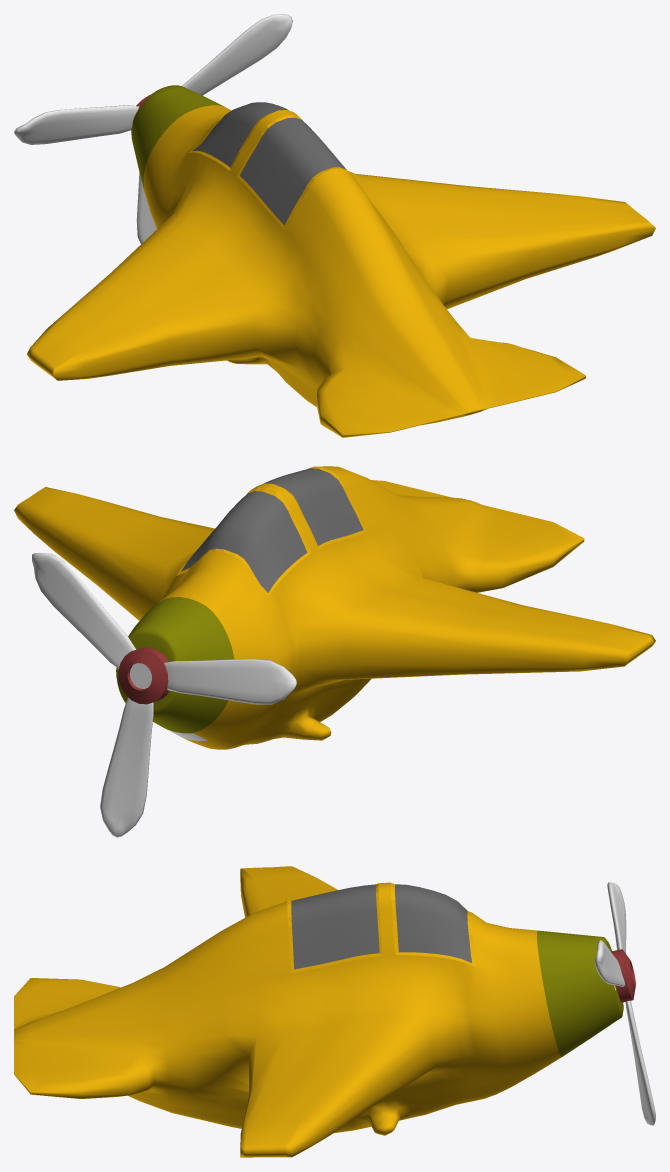
The model's file is airplanev3.fbx.
3 renders of one model, top to bottom at view 1: azimuth 30°, elevation 25°; view 2: azimuth 150°, elevation 25°; view 3: azimuth 270°, elevation 25°, orthographic. The views are drawn at different scales.
Visible parts, largest first — view 1: pCylinder1, pCube4; view 2: pCylinder1, pCube4; view 3: pCylinder1, pCube4.
Part boxes in pixels (x1,y1,x2,y2): pCylinder1: (27,85,655,437); pCube4: (14,14,292,243); pCylinder1: (14,466,655,749); pCube4: (32,552,296,837); pCylinder1: (14,866,623,1157); pCube4: (595,882,655,1125).
Size of the model in its own units: 4.72 by 1.93 by 4.54.
